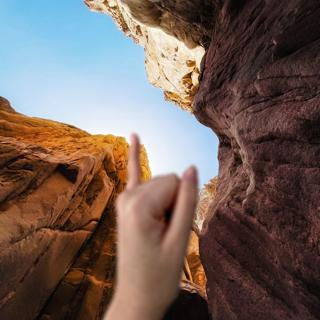Fine: (103, 130, 205, 308)
